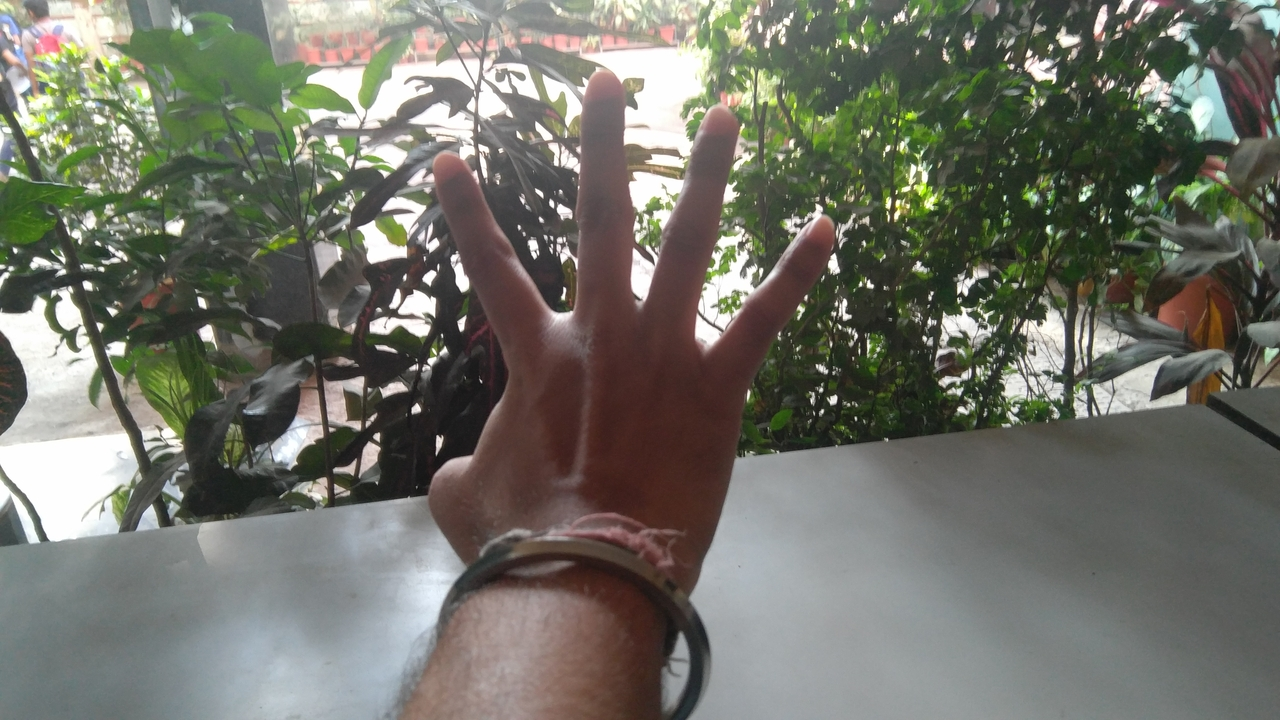fingertip: (788, 204, 848, 260), (420, 140, 472, 200), (694, 96, 746, 150), (582, 68, 630, 118)
